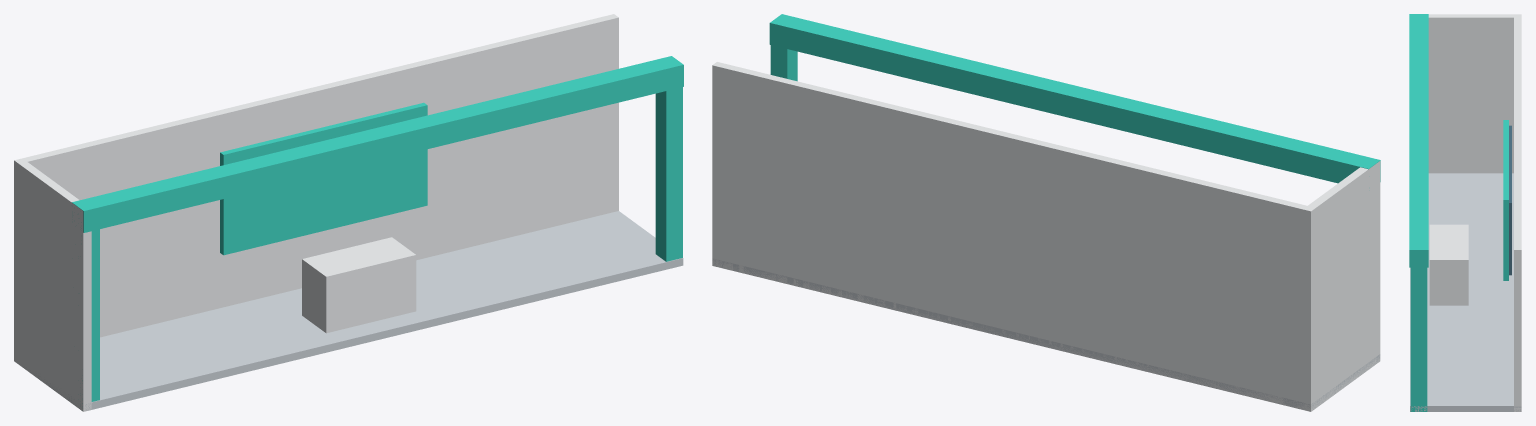
3 views of the same model, side by side, from view 1: azimuth 30°, elevation 25°; view 2: azimuth 150°, elevation 25°; view 3: azimuth 270°, elevation 25° (orthographic). The views are drawn at different scales.
Visible parts, largest first — view 1: Exhibition Booth Concept; view 2: Exhibition Booth Concept; view 3: Exhibition Booth Concept.
Part boxes in pixels (bbox=[...]): Exhibition Booth Concept: bbox=[14, 14, 683, 411]; Exhibition Booth Concept: bbox=[712, 14, 1380, 411]; Exhibition Booth Concept: bbox=[1409, 14, 1521, 411].
Size of the model in its own units: 10 by 3.2 by 2.01.
